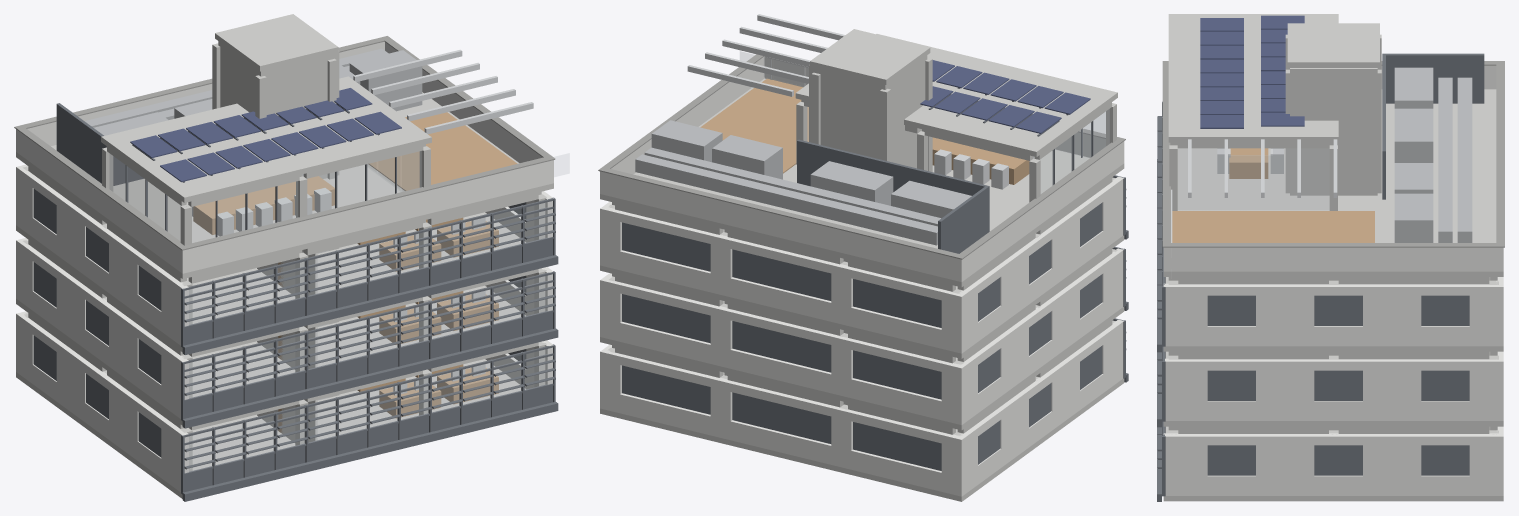
Rendered from newton-from-floor-3.glb.
3 views of the same model, side by side, from view 1: azimuth 30°, elevation 25°; view 2: azimuth 150°, elevation 25°; view 3: azimuth 270°, elevation 25° (orthographic). The views are drawn at different scales.
Visible parts, largest first — view 1: IFC IfcSlab 7173, IFC IfcWall 18209, IFC IfcSlab 6737, IFC IfcSlab 6017, IFC IfcSlab 6377, IFC IfcSlab 7097, IFC IfcCovering 43161, IFC IfcSlab 7268, IFC IfcCovering 36125, IFC IfcCovering 33509, IFC IfcCovering 38741, IFC IfcWall 18247 (+78 smaller); view 2: IFC IfcWall 18228, IFC IfcSlab 7173, IFC IfcFlowSegment 44149, IFC IfcWall 7230, IFC IfcCovering 43161, IFC IfcSlab 7268, IFC IfcWall 18247, IFC IfcSlab 7116, IFC IfcWall 44187, IFC IfcFlowSegment 44130, IFC IfcWindow 16703, IFC IfcWindow 17855 (+105 smaller); view 3: IFC IfcWall 7211, IFC IfcSlab 7173, IFC IfcWall 18266, IFC IfcSlab 7116, IFC IfcCovering 43161, IFC IfcSlab 7097, IFC IfcSlab 7268, IFC IfcWall 17114, IFC IfcWall 17152, IFC IfcWall 14810, IFC IfcWall 14848, IFC IfcWall 15962 (+80 smaller).
Part boxes in pixels (<box>): IFC IfcSlab 7173: <box>101,76,431,202</box>; IFC IfcWall 18209: <box>179,160,553,273</box>; IFC IfcSlab 6737: <box>121,213,525,352</box>; IFC IfcSlab 6017: <box>121,359,525,498</box>; IFC IfcSlab 6377: <box>121,286,525,425</box>; IFC IfcSlab 7097: <box>121,139,553,278</box>; IFC IfcCovering 43161: <box>368,112,517,190</box>; IFC IfcSlab 7268: <box>215,14,338,71</box>; IFC IfcCovering 36125: <box>182,328,558,428</box>; IFC IfcCovering 33509: <box>182,401,558,501</box>; IFC IfcCovering 38741: <box>182,255,558,354</box>; IFC IfcWall 18247: <box>19,131,179,271</box>; IFC IfcWall 18228: <box>600,171,964,281</box>; IFC IfcSlab 7173: <box>795,34,1117,156</box>; IFC IfcFlowSegment 44149: <box>635,154,937,245</box>; IFC IfcWall 7230: <box>809,65,886,159</box>; IFC IfcCovering 43161: <box>700,78,808,173</box>; IFC IfcSlab 7268: <box>810,29,930,84</box>; IFC IfcWall 18247: <box>964,143,1121,279</box>; IFC IfcSlab 7116: <box>600,172,1021,287</box>; IFC IfcWall 44187: <box>797,139,989,232</box>; IFC IfcFlowSegment 44130: <box>644,147,940,226</box>; IFC IfcWindow 16703: <box>732,321,831,372</box>; IFC IfcWindow 17855: <box>732,249,831,300</box>; IFC IfcWall 7211: <box>1290,68,1377,195</box>; IFC IfcSlab 7173: <box>1168,14,1338,142</box>; IFC IfcWall 18266: <box>1170,247,1497,271</box>; IFC IfcSlab 7116: <box>1377,89,1503,276</box>; IFC IfcCovering 43161: <box>1172,211,1374,242</box>; IFC IfcSlab 7097: <box>1163,148,1289,276</box>; IFC IfcSlab 7268: <box>1287,23,1379,67</box>; IFC IfcWall 17114: <box>1256,284,1314,346</box>; IFC IfcWall 17152: <box>1363,284,1421,346</box>; IFC IfcWall 14810: <box>1256,434,1314,495</box>; IFC IfcWall 14848: <box>1363,434,1421,495</box>; IFC IfcWall 15962: <box>1256,359,1314,420</box>.
Bounding box in the file's own units: 18.99 × 16.45 × 14.33.
